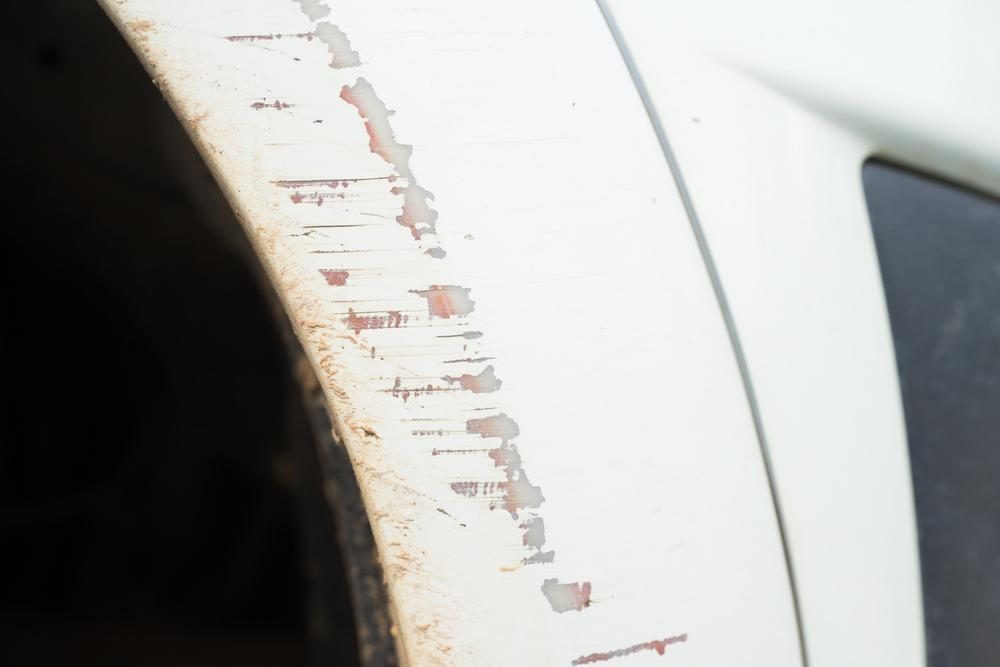scratch: (101, 0, 710, 667)
